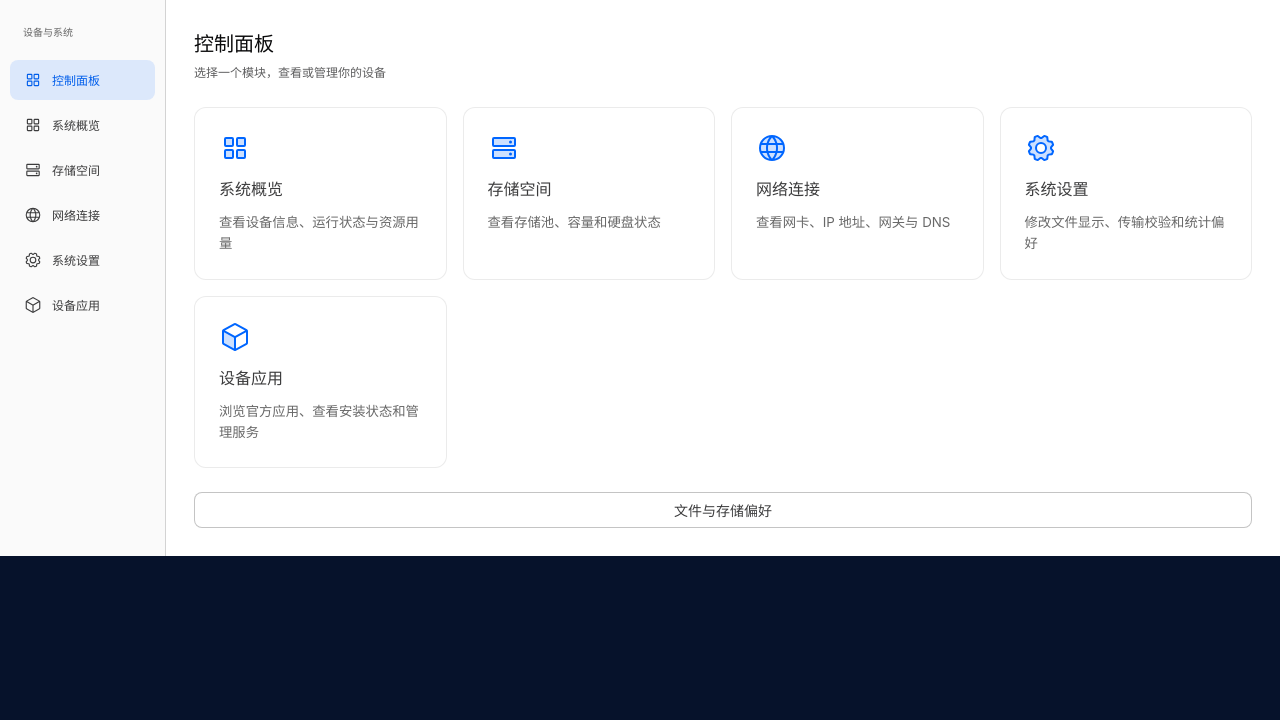
Test case: routes panel modules to actual views without a raw JSON fallback
Click the button "文件与存储偏好" at {"x": 723, "y": 510}, box [194, 492, 1252, 528]
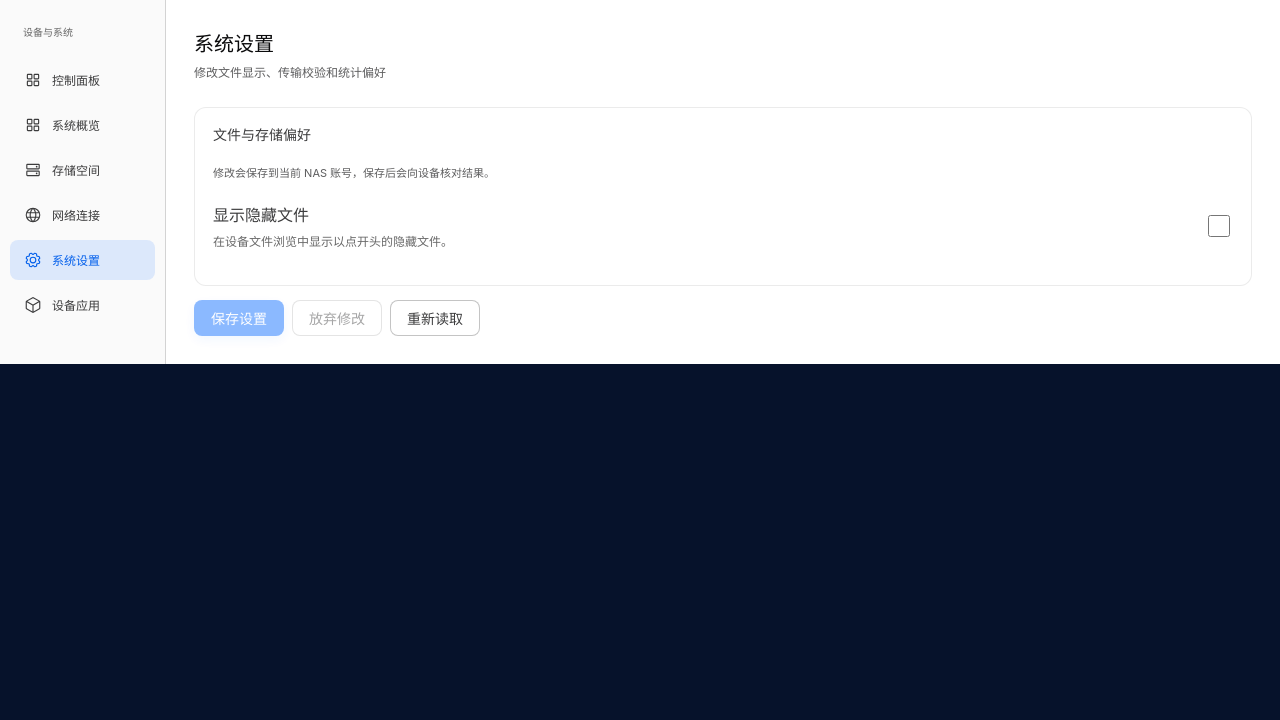
Check: the checkbox labelled "显示隐藏文件" is shown, box [1208, 215, 1230, 237]
Click the button "设备应用" at {"x": 82, "y": 304}, box [10, 284, 155, 324]
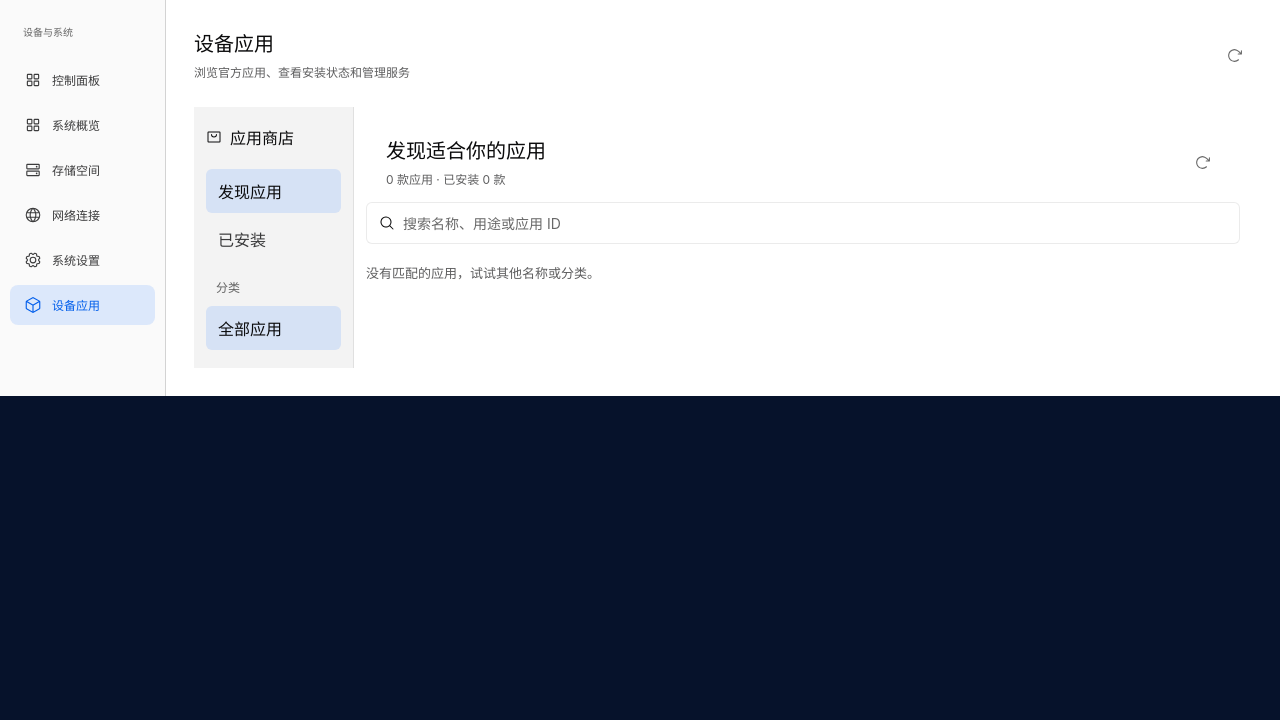
Check: the button "发现应用" is shown, box [206, 169, 341, 213]
